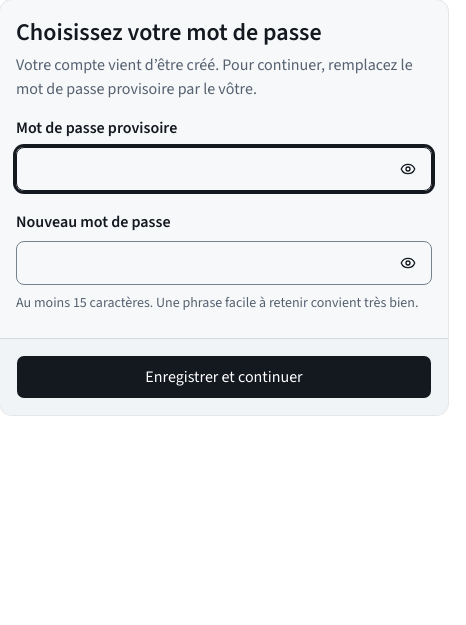
Test case: ChangePasswordForm › lists what is missing without sending anything
This screenshot has width=466, height=625.
Click the button "Enregistrer et continuer": (224, 377) [16, 355, 432, 399]
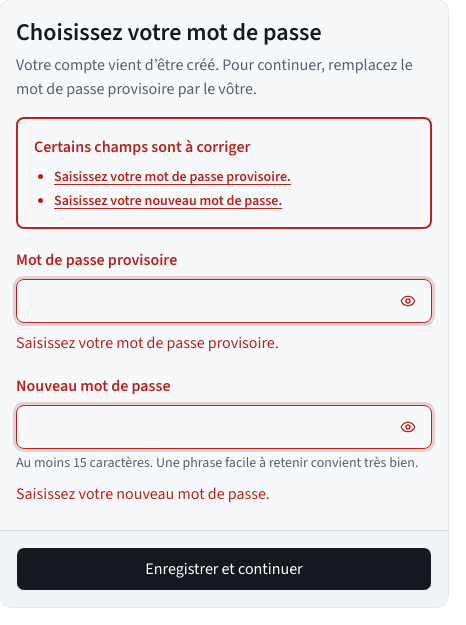
Expected: the message shows "Certains champs sont à corriger", [34, 136, 250, 158]
Expected: the message shows "Saisissez votre mot de passe provisoire.", [54, 167, 291, 187]
Expected: the message shows "Saisissez votre nouveau mot de passe.", [54, 191, 282, 211]
